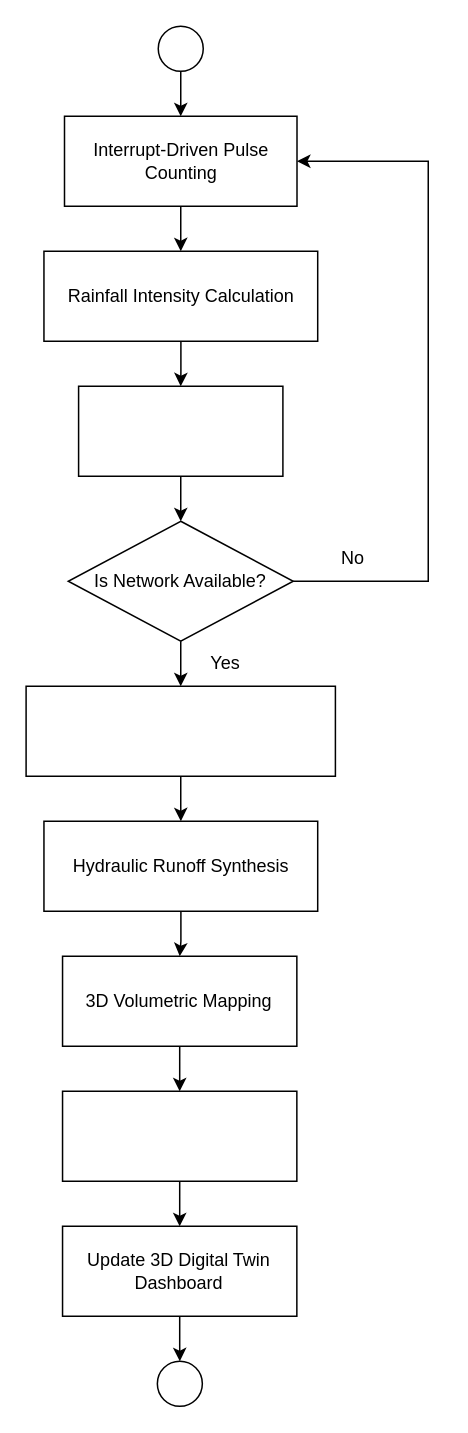
This 468x1433 diagram has some shape labels left out. The shapes that lost their labels are listed below. From the top down, each one's centre as x and y in pixels, then its label:
the point at 180,430: Local Data Storage
the point at 180,730: Asynchronous Data Transmission
the point at 179,1135: Categorize Risk Level
